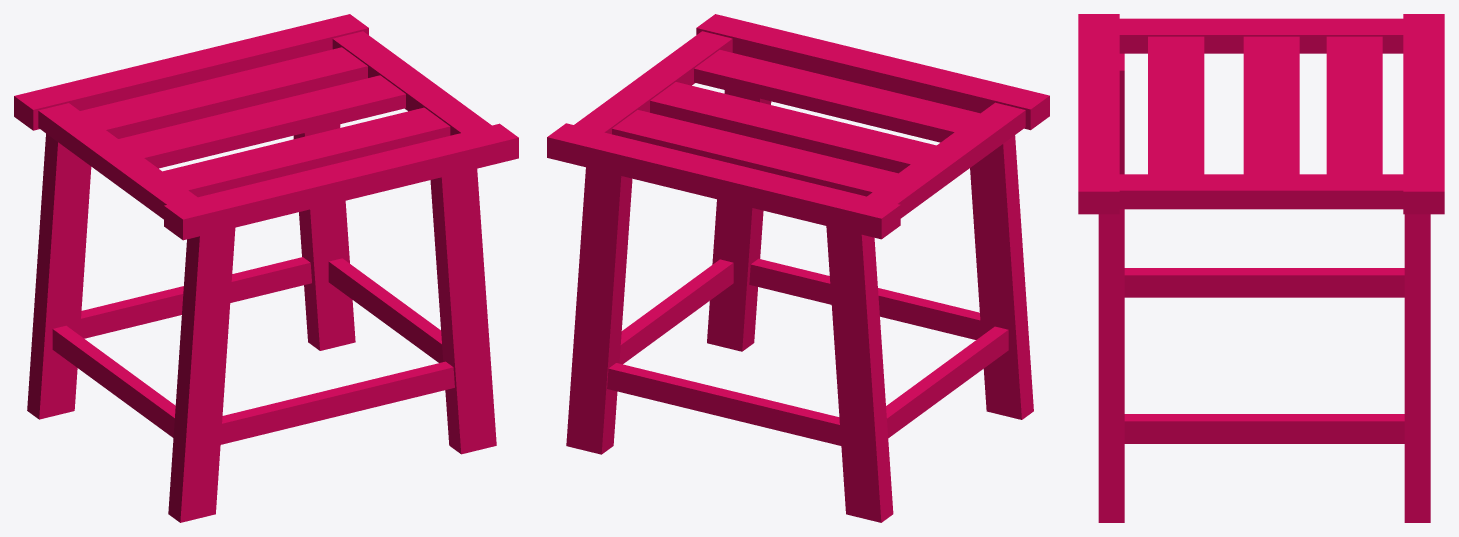
Rendered from Bench_03_Lod0.fbx.
3 renders of one model, left to right at view 1: azimuth 30°, elevation 25°; view 2: azimuth 150°, elevation 25°; view 3: azimuth 270°, elevation 25°, orthographic. The views are drawn at different scales.
Visible parts, largest first — view 1: Bench_03_Lod0; view 2: Bench_03_Lod0; view 3: Bench_03_Lod0.
Part boxes in pixels (x1,y1,x2,y2): Bench_03_Lod0: (14,14,518,522); Bench_03_Lod0: (547,14,1049,522); Bench_03_Lod0: (1078,14,1444,522).
Size of the model in its own units: 58.16 by 51.6 by 50.67.
